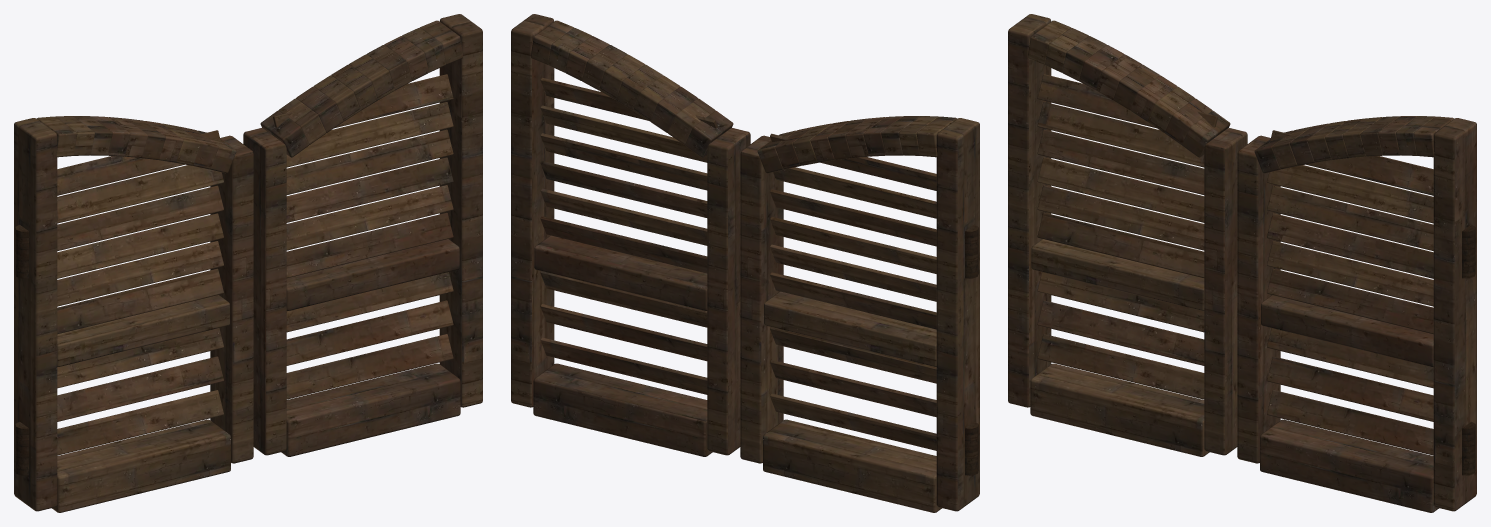
The model's file is door_saloon.glb.
The picture shows the model from 3 angles, left to right: view 1: azimuth 30°, elevation 25°; view 2: azimuth 150°, elevation 25°; view 3: azimuth 330°, elevation 25°; orthographic projection.
Parts seen in each view (by area): view 1: prop (×2); view 2: prop (×2); view 3: prop (×2).
Part boxes in pixels (bbox=[...]): prop (×2): bbox=[14, 14, 482, 512]; prop (×2): bbox=[511, 14, 979, 512]; prop (×2): bbox=[1008, 14, 1476, 512].
Size of what is drawn, in the model's own units: 1.04 by 0.8137 by 0.09.
2 materials, 2 textured.
